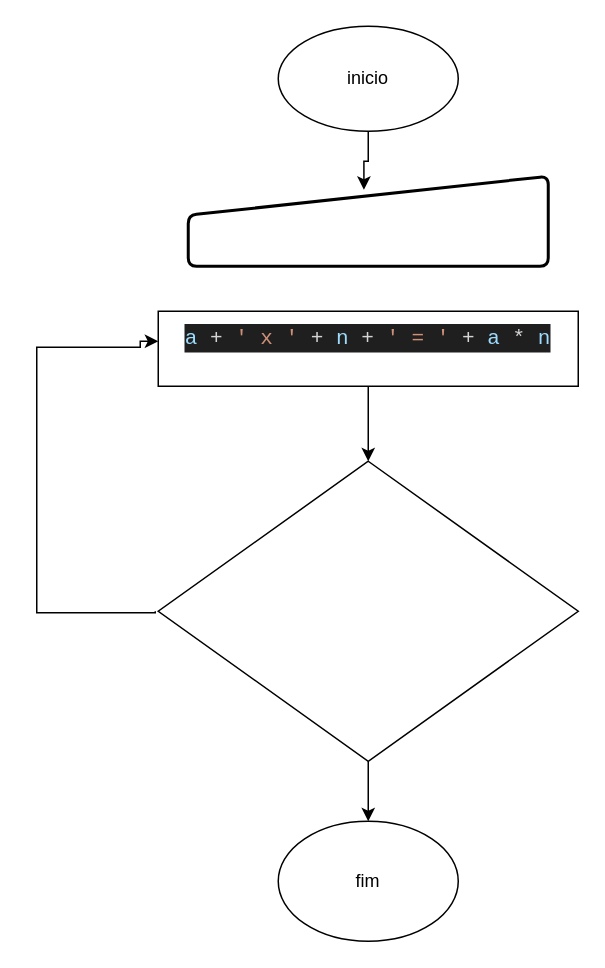
Some shapes in this 605 by 968 pixel diagram are drawn without their labels. Each missing label, with the centre of its shape:
DIGITE UM NÚMERO: (x=367, y=220)
n = 1;n <= 10; n++: (x=367, y=610)
